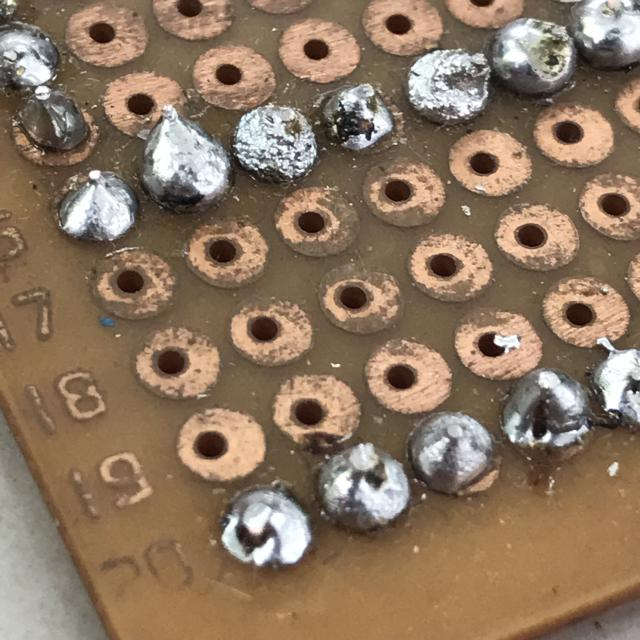excess: (128, 104, 242, 218)
hole: (494, 366, 601, 468), (212, 479, 322, 578), (308, 442, 416, 539)
pad_less: (403, 407, 509, 507), (4, 87, 106, 176), (42, 167, 145, 250)
